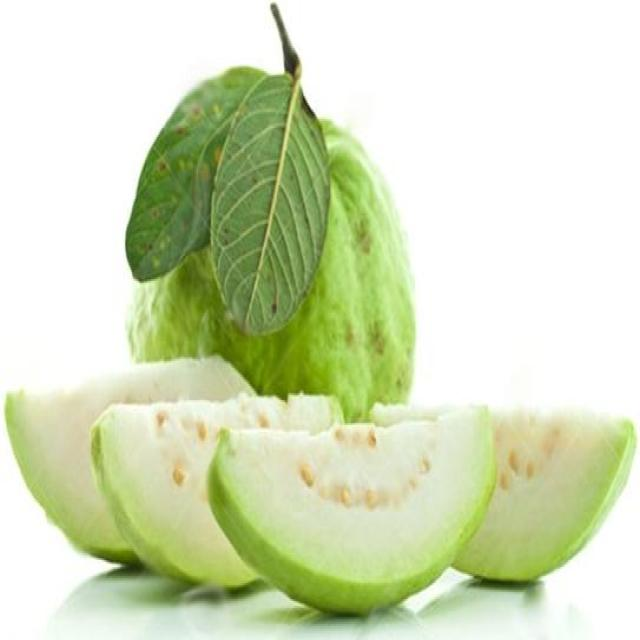oi: (5, 359, 635, 612), (126, 121, 415, 418)
